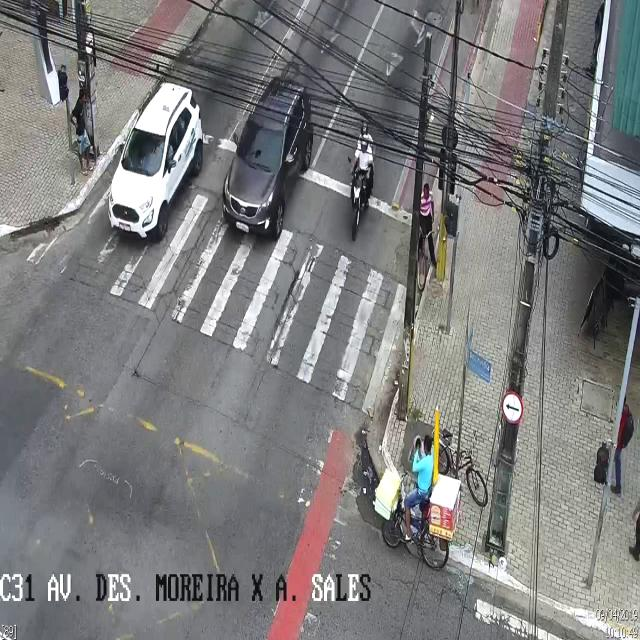Car: (108, 80, 205, 241), (221, 77, 315, 239)
Motorcycle: (346, 119, 374, 241)
